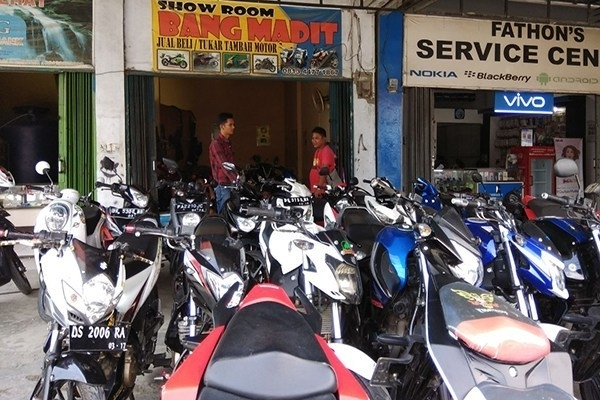plate: (72, 324, 128, 351), (109, 207, 144, 220), (176, 203, 206, 214), (283, 199, 311, 206)
